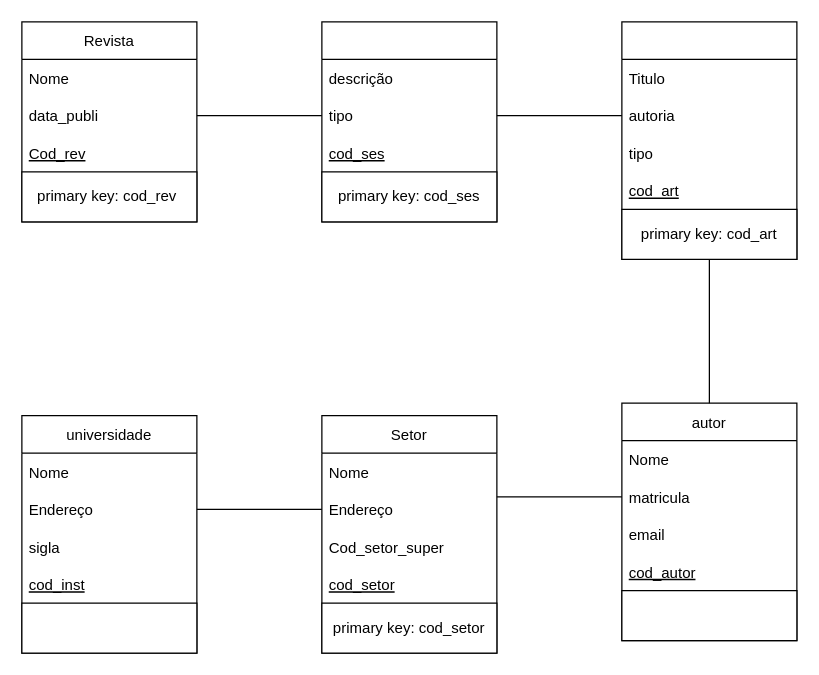
The diagram is 819 pixels wide and 675 high, and some of its shapes have lost their labels. Each missing label, with the box of its shape:
artigo: (621, 21, 797, 259)
primary ke: cod_inst: (21, 602, 197, 653)
primary key: cod_autor: (621, 589, 797, 641)
Sessão: (321, 21, 497, 222)
